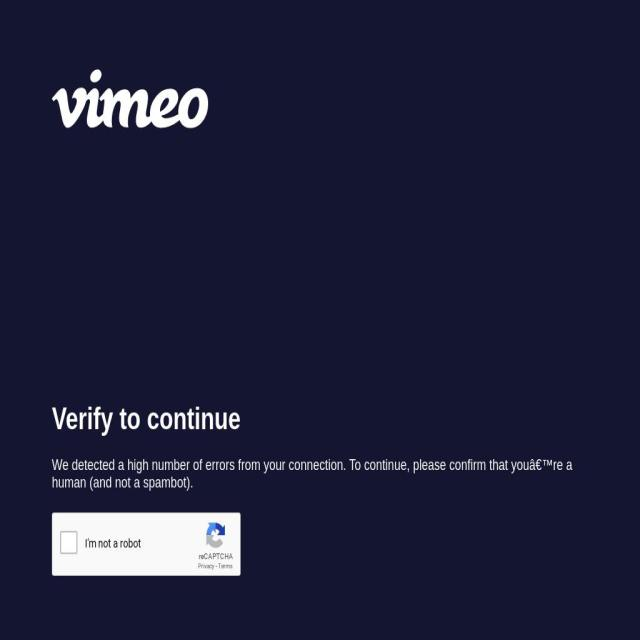heading: (52, 401, 593, 437)
iframe: (52, 512, 242, 578)
image: (52, 69, 208, 129)
text: (52, 456, 593, 492)
